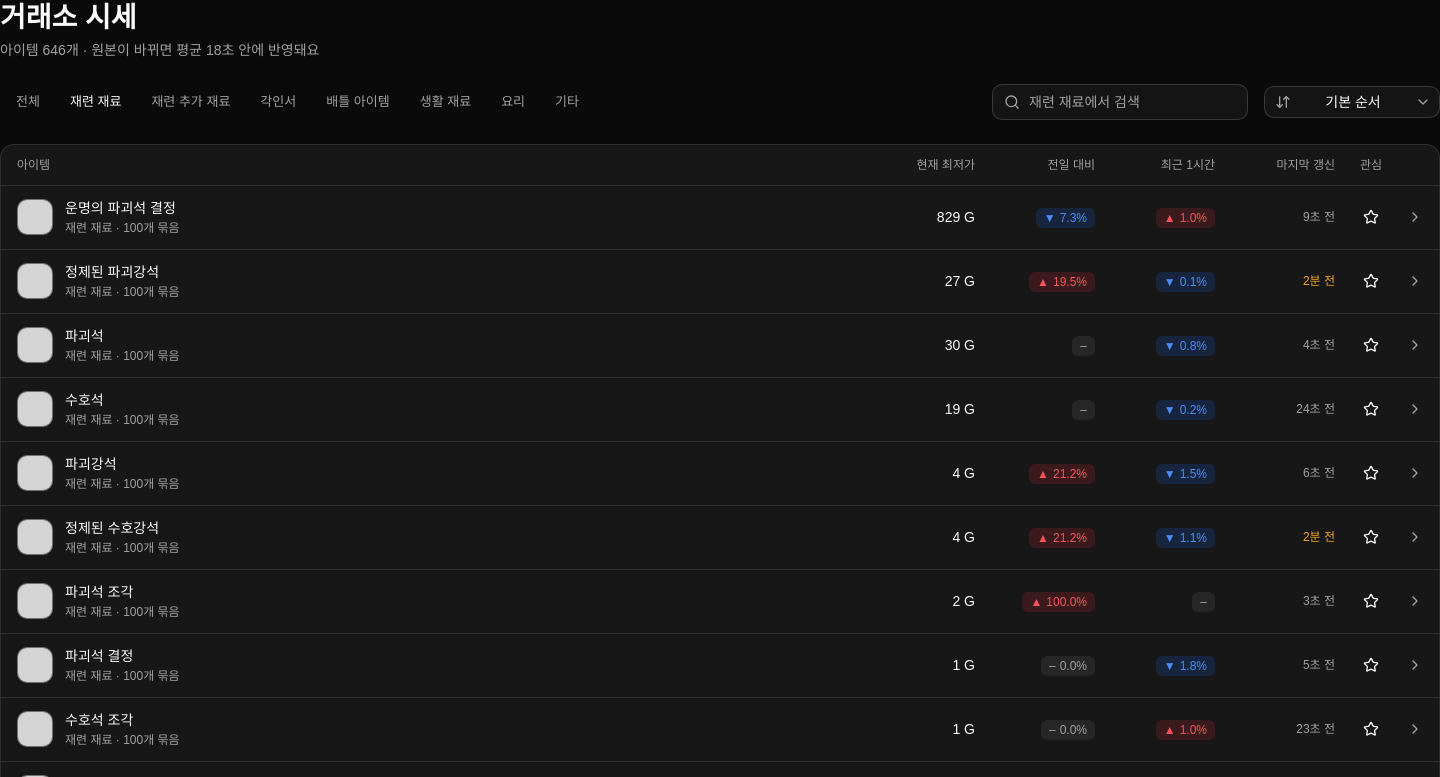
Test case: 시세 목록 화면 › 탭을 바꾸면 그 카테고리의 아이템을 보여준다
Click the tab "각인서" at (278, 102), box x1=247 y1=86 x2=309 y2=118
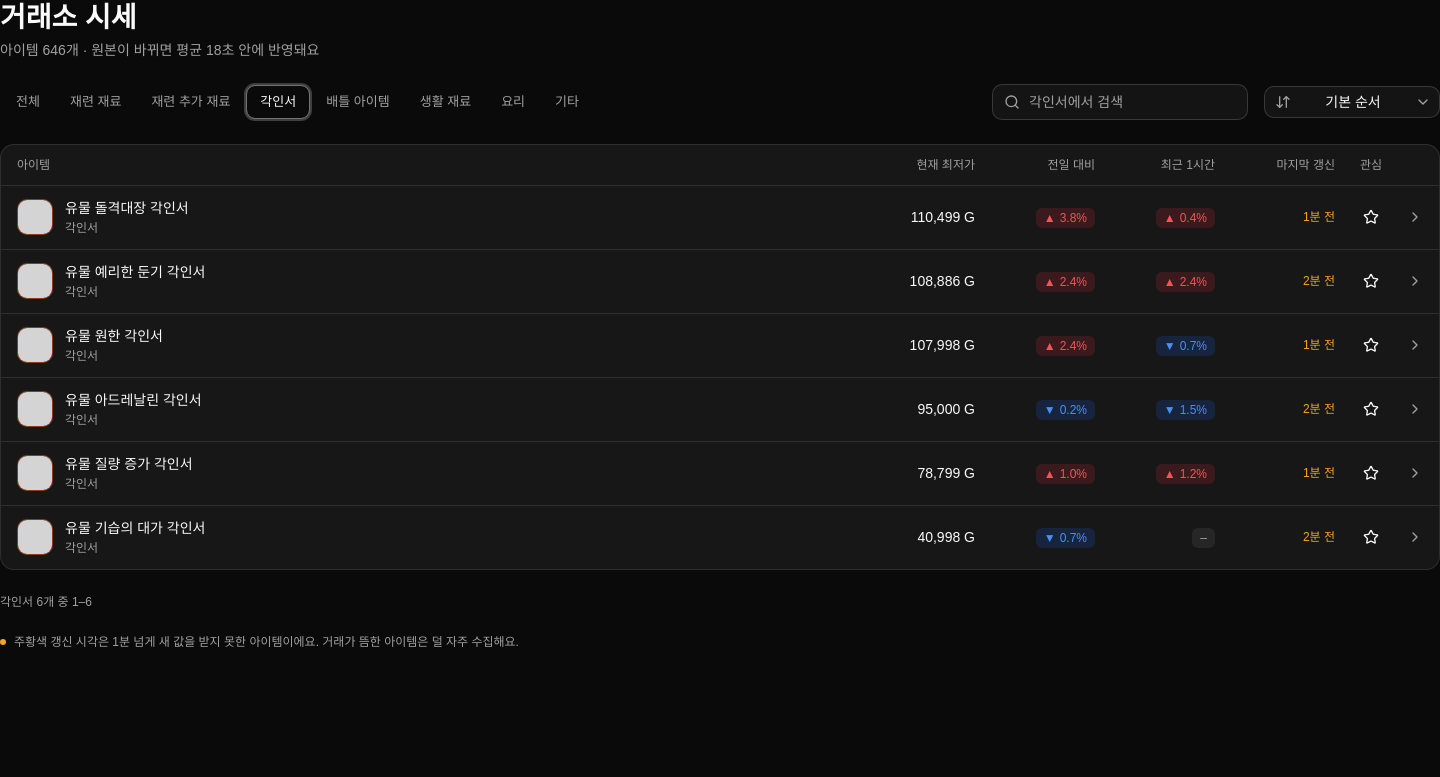
Now the link "유물 원한 각인서" is shown, box x1=65 y1=326 x2=163 y2=346
Now the link "운명의 파괴석 결정" is gone
